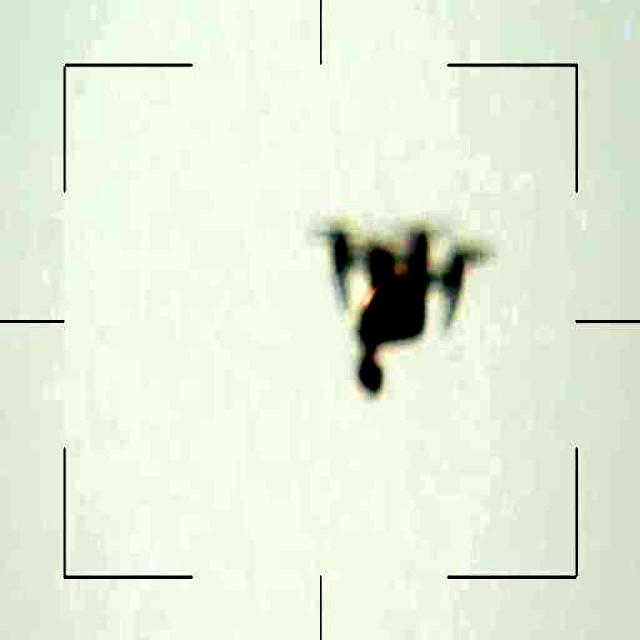bird: (299, 194, 466, 399)
